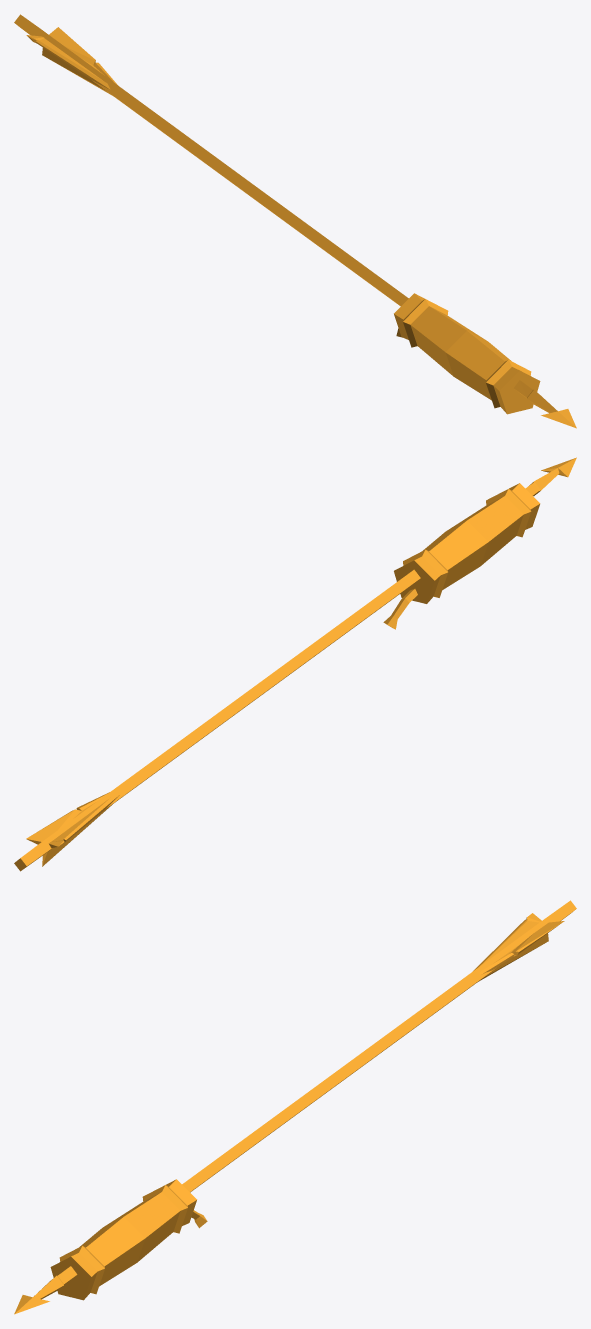
The model's file is SM_Hwacha_Arrow.fbx.
The picture shows the model from 3 angles, top to bottom: view 1: azimuth 30°, elevation 25°; view 2: azimuth 150°, elevation 25°; view 3: azimuth 330°, elevation 25°; orthographic projection.
Parts seen in each view (by area): view 1: hwacha-arrow; view 2: hwacha-arrow; view 3: hwacha-arrow.
Part boxes in pixels (x1,y1,x2,y2): hwacha-arrow: [14, 14, 576, 428]; hwacha-arrow: [14, 457, 576, 871]; hwacha-arrow: [14, 900, 576, 1314].
Bounding box in the file's own units: 0.0826 × 0.1055 × 1.75.
